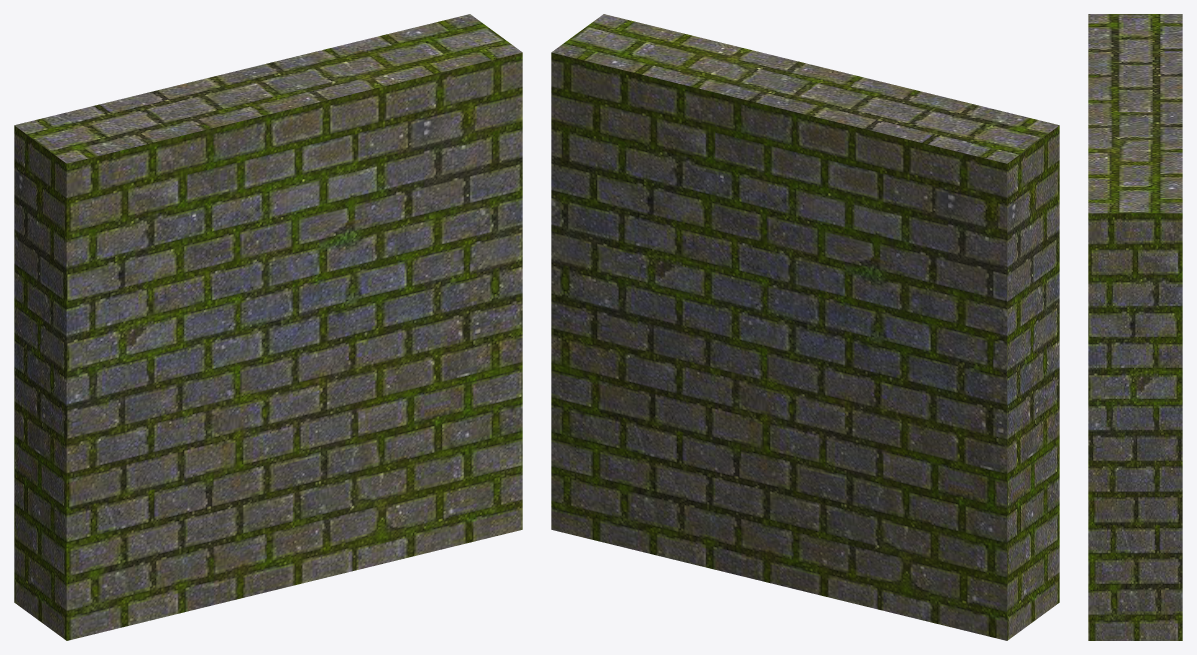
Rendered from wall.fbx.
The picture shows the model from 3 angles, left to right: view 1: azimuth 30°, elevation 25°; view 2: azimuth 150°, elevation 25°; view 3: azimuth 270°, elevation 25°; orthographic projection. The views are drawn at different scales.
Parts seen in each view (by area): view 1: 立方体; view 2: 立方体; view 3: 立方体.
Boxes of the visible parts, <box> form: 立方体: <box>14,14,522,640</box>; 立方体: <box>551,14,1059,640</box>; 立方体: <box>1088,14,1182,640</box>.
Bounding box in the file's own units: 1000 × 1000 × 200.
